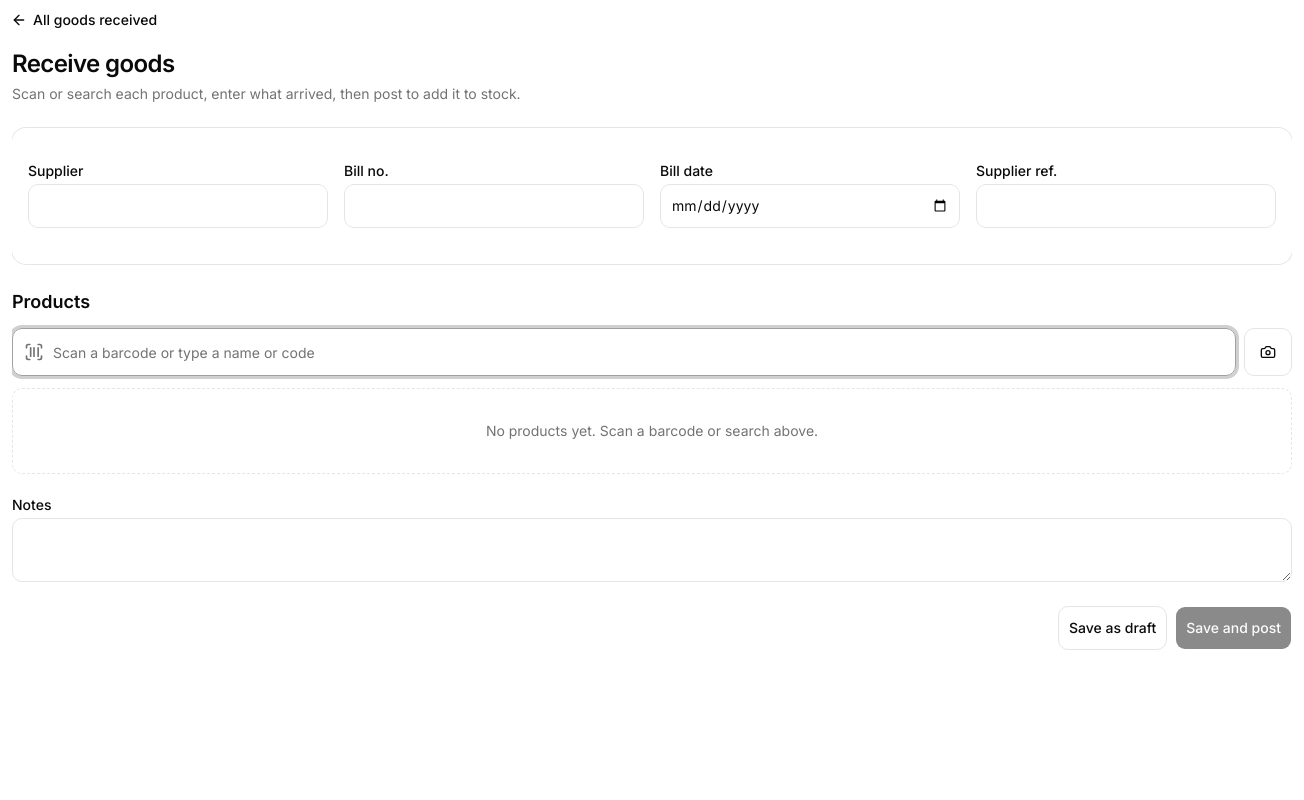
receiving goods on a laptop › shows the server's message next to the line it is about
Step 1. Type "8901719101038" into the field named "Scan or search a product" → (624, 352), box left=12, top=328, right=1236, bottom=376
Then press Enter
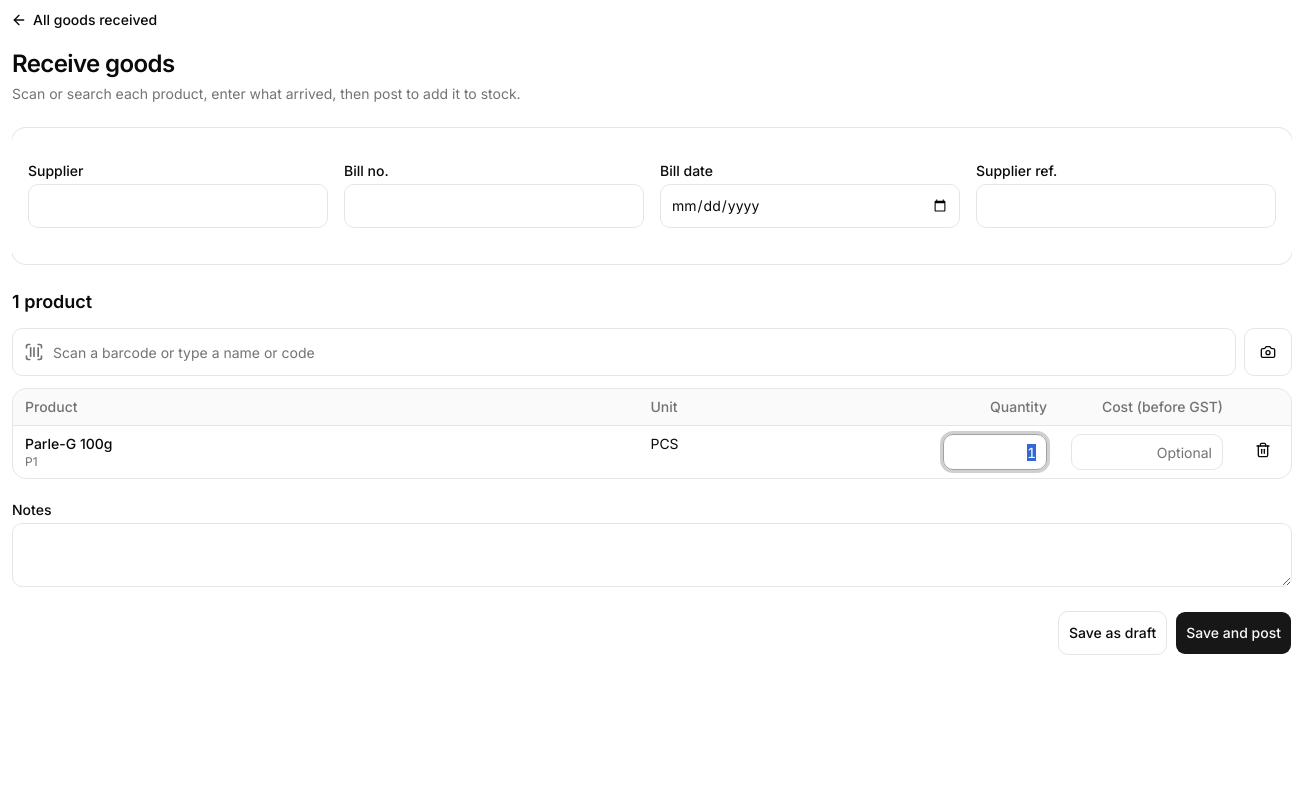
expect the field named "Quantity of Parle-G 100g in PCS" is shown: met, box left=943, top=434, right=1047, bottom=470
Step 2. Click the button "Save as draft" → (1113, 633), box left=1058, top=611, right=1167, bottom=655
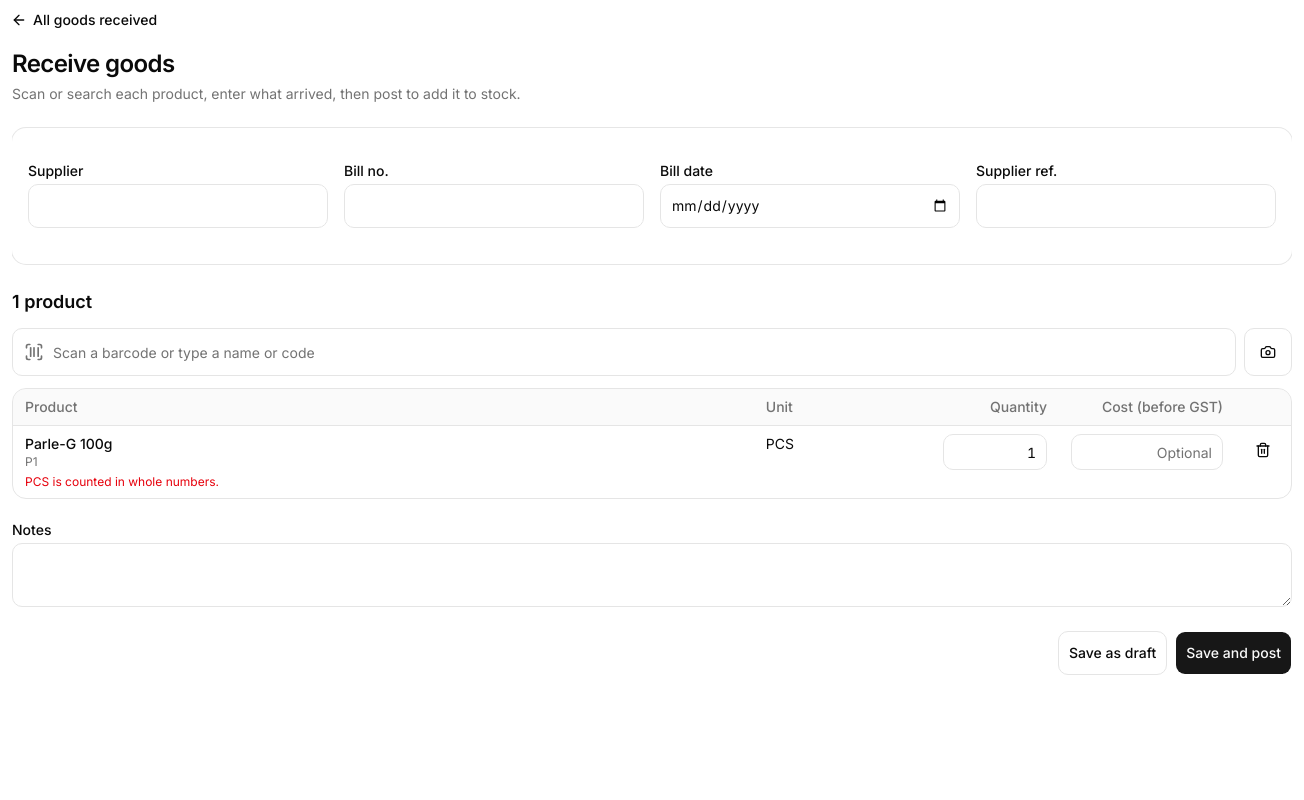
expect the text "PCS is counted in whole numbers." is shown: met, box left=25, top=474, right=219, bottom=489
